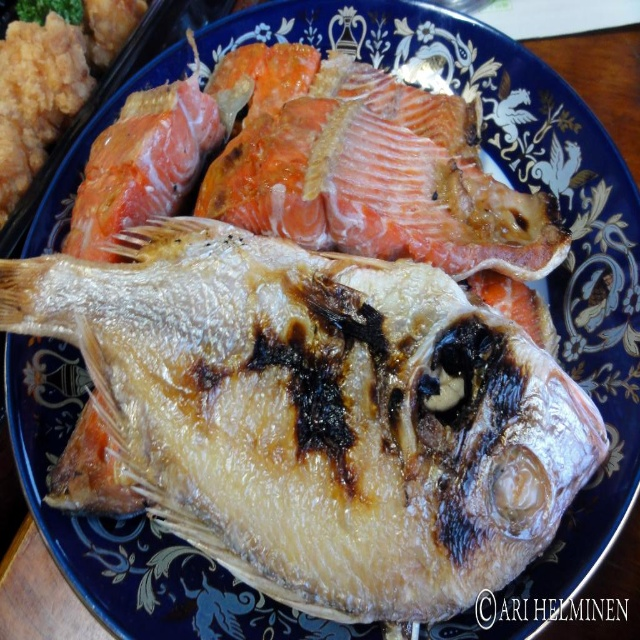Fish: (0, 46, 610, 640)
